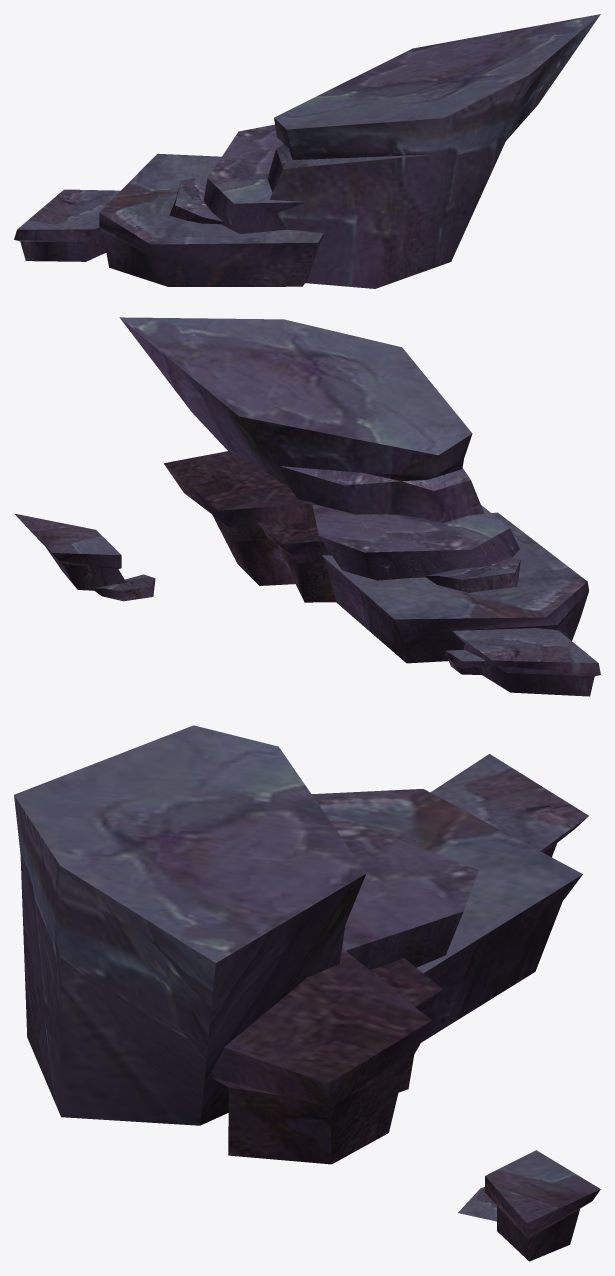
File: yw_huanghunzhihu_shitou01.FBX
3 renders of one model, top to bottom at view 1: azimuth 30°, elevation 25°; view 2: azimuth 150°, elevation 25°; view 3: azimuth 270°, elevation 25°, orthographic. The views are drawn at different scales.
Visible parts, largest first — view 1: yw_huanghunzhihu_shitou01; view 2: yw_huanghunzhihu_shitou01; view 3: yw_huanghunzhihu_shitou01.
Part boxes in pixels (<box>): yw_huanghunzhihu_shitou01: <box>14,14,600,288</box>; yw_huanghunzhihu_shitou01: <box>14,317,600,696</box>; yw_huanghunzhihu_shitou01: <box>14,725,600,1261</box>.
Size of the model in its own units: 789 by 249 by 389.
